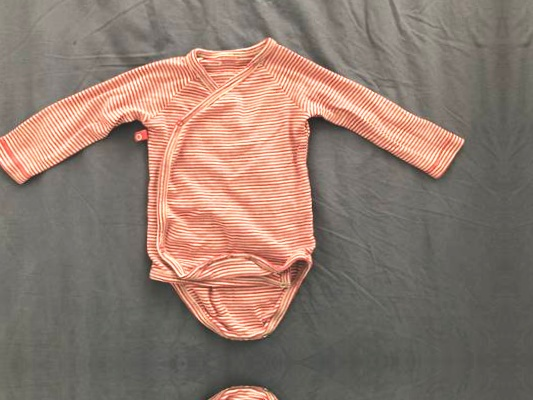Body: (0, 20, 482, 338), (0, 389, 486, 400), (527, 13, 533, 332), (532, 383, 533, 400)
